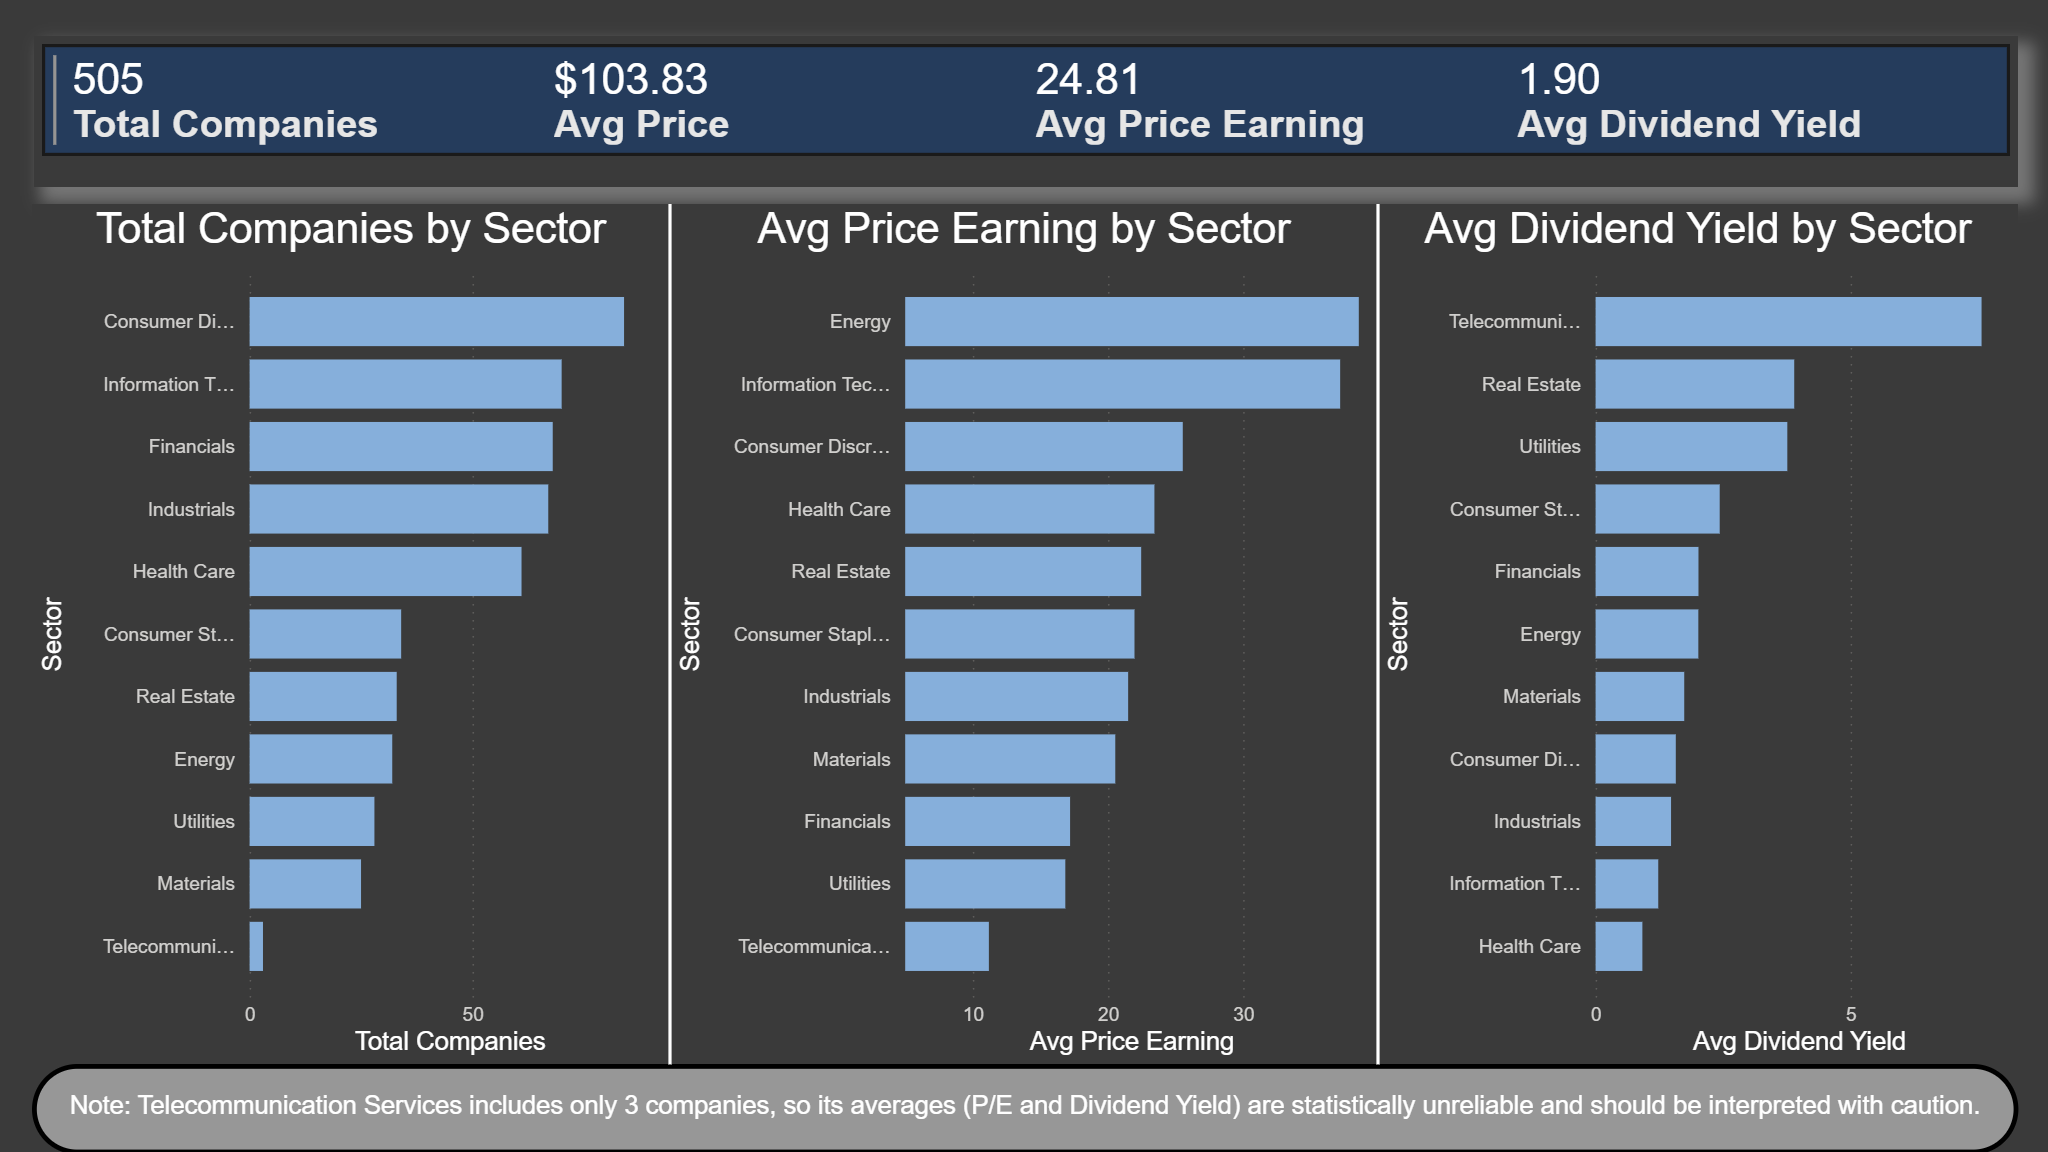

This screenshot's page, from the dashboard's own definition file:
{"tool":"powerbi","page":{"name":"Sector Analysis","canvas":[1280,720],"ordinal":0},"visuals":[{"type":"multiRowCard","fields":{"Values":["SP 500.Total Companies","SP 500.Avg Price","SP 500.Avg Price Earning","SP 500.Avg Dividend Yield"]},"box":[20.6,22.1,1240.2,94.4],"z":0},{"type":"clusteredBarChart","fields":{"Category":["SP 500.Sector"],"Y":["SP 500.Total Companies"]},"box":[20,127.5,398.8,537.5],"z":1000},{"type":"clusteredBarChart","fields":{"Category":["SP 500.Sector"],"Y":["SP 500.Avg Price Earning"]},"box":[418.8,127.5,442.5,537.5],"z":2000},{"type":"clusteredBarChart","fields":{"Category":["SP 500.Sector"],"Y":["SP 500.Avg Dividend Yield"]},"box":[861.2,127.5,400,537.5],"z":3000},{"type":"textbox","box":[20,665,1241.2,56.2],"z":4000},{"type":"shape","box":[268.9,127.8,300,537.8],"z":5000},{"type":"shape","box":[711.1,127.8,300,537.8],"z":5001}]}

Visuals, with their boxes in screenshot pixels (x1, y1, x2, y2), scaled from the page's 1280x720 canvas onto the 2048x1152 screenshot:
multiRowCard - SP 500.Total Companies x SP 500.Avg Price: (33,35,2017,186)
clusteredBarChart - SP 500.Sector x SP 500.Total Companies: (32,204,670,1064)
clusteredBarChart - SP 500.Sector x SP 500.Avg Price Earning: (670,204,1378,1064)
clusteredBarChart - SP 500.Sector x SP 500.Avg Dividend Yield: (1378,204,2018,1064)
textbox: (32,1064,2018,1151)
shape: (430,204,910,1065)
shape: (1138,204,1618,1065)
